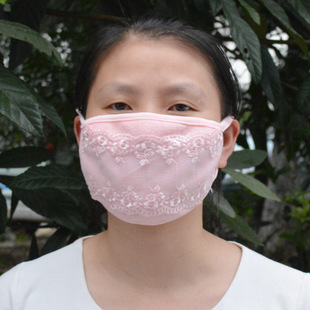face_mask: (82, 40, 218, 214)
